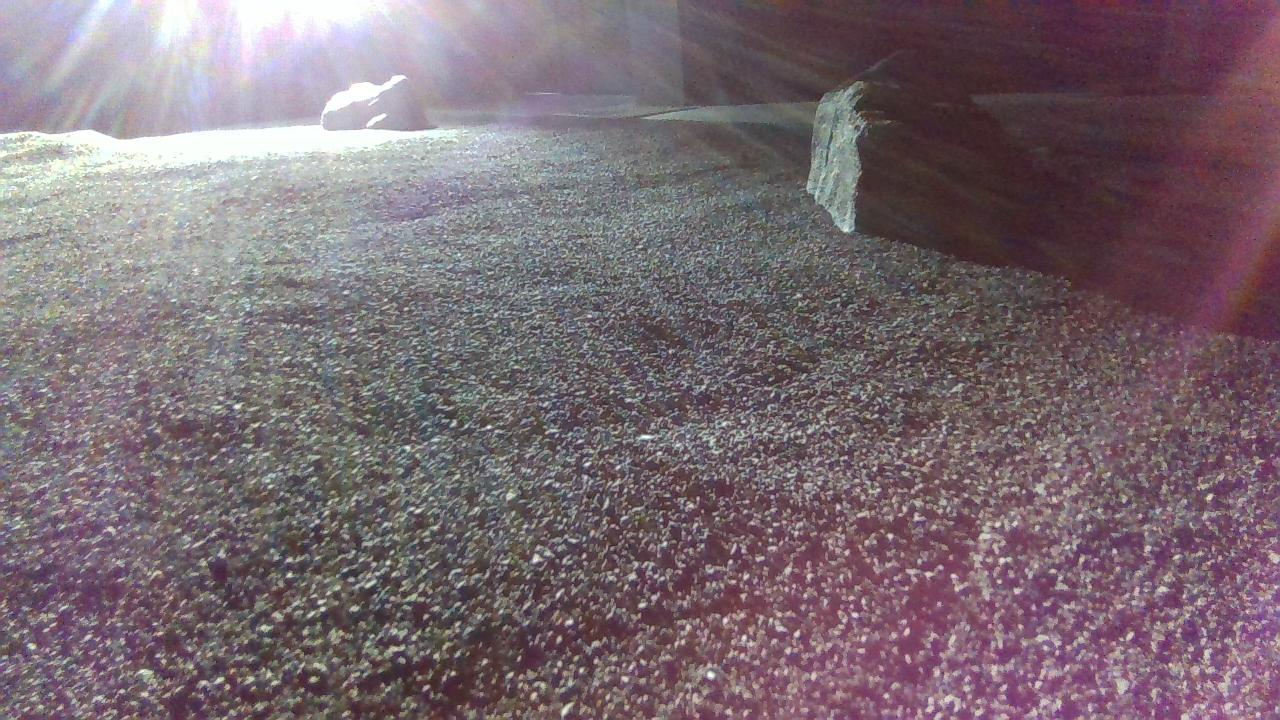rock: (808, 52, 1016, 236), (320, 73, 428, 129)
